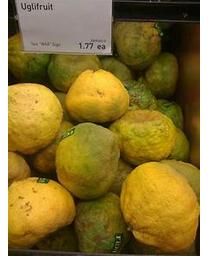lemon: (121, 162, 198, 254), (9, 176, 76, 255), (56, 123, 122, 197), (9, 84, 65, 153), (110, 109, 178, 163), (64, 68, 130, 121)
